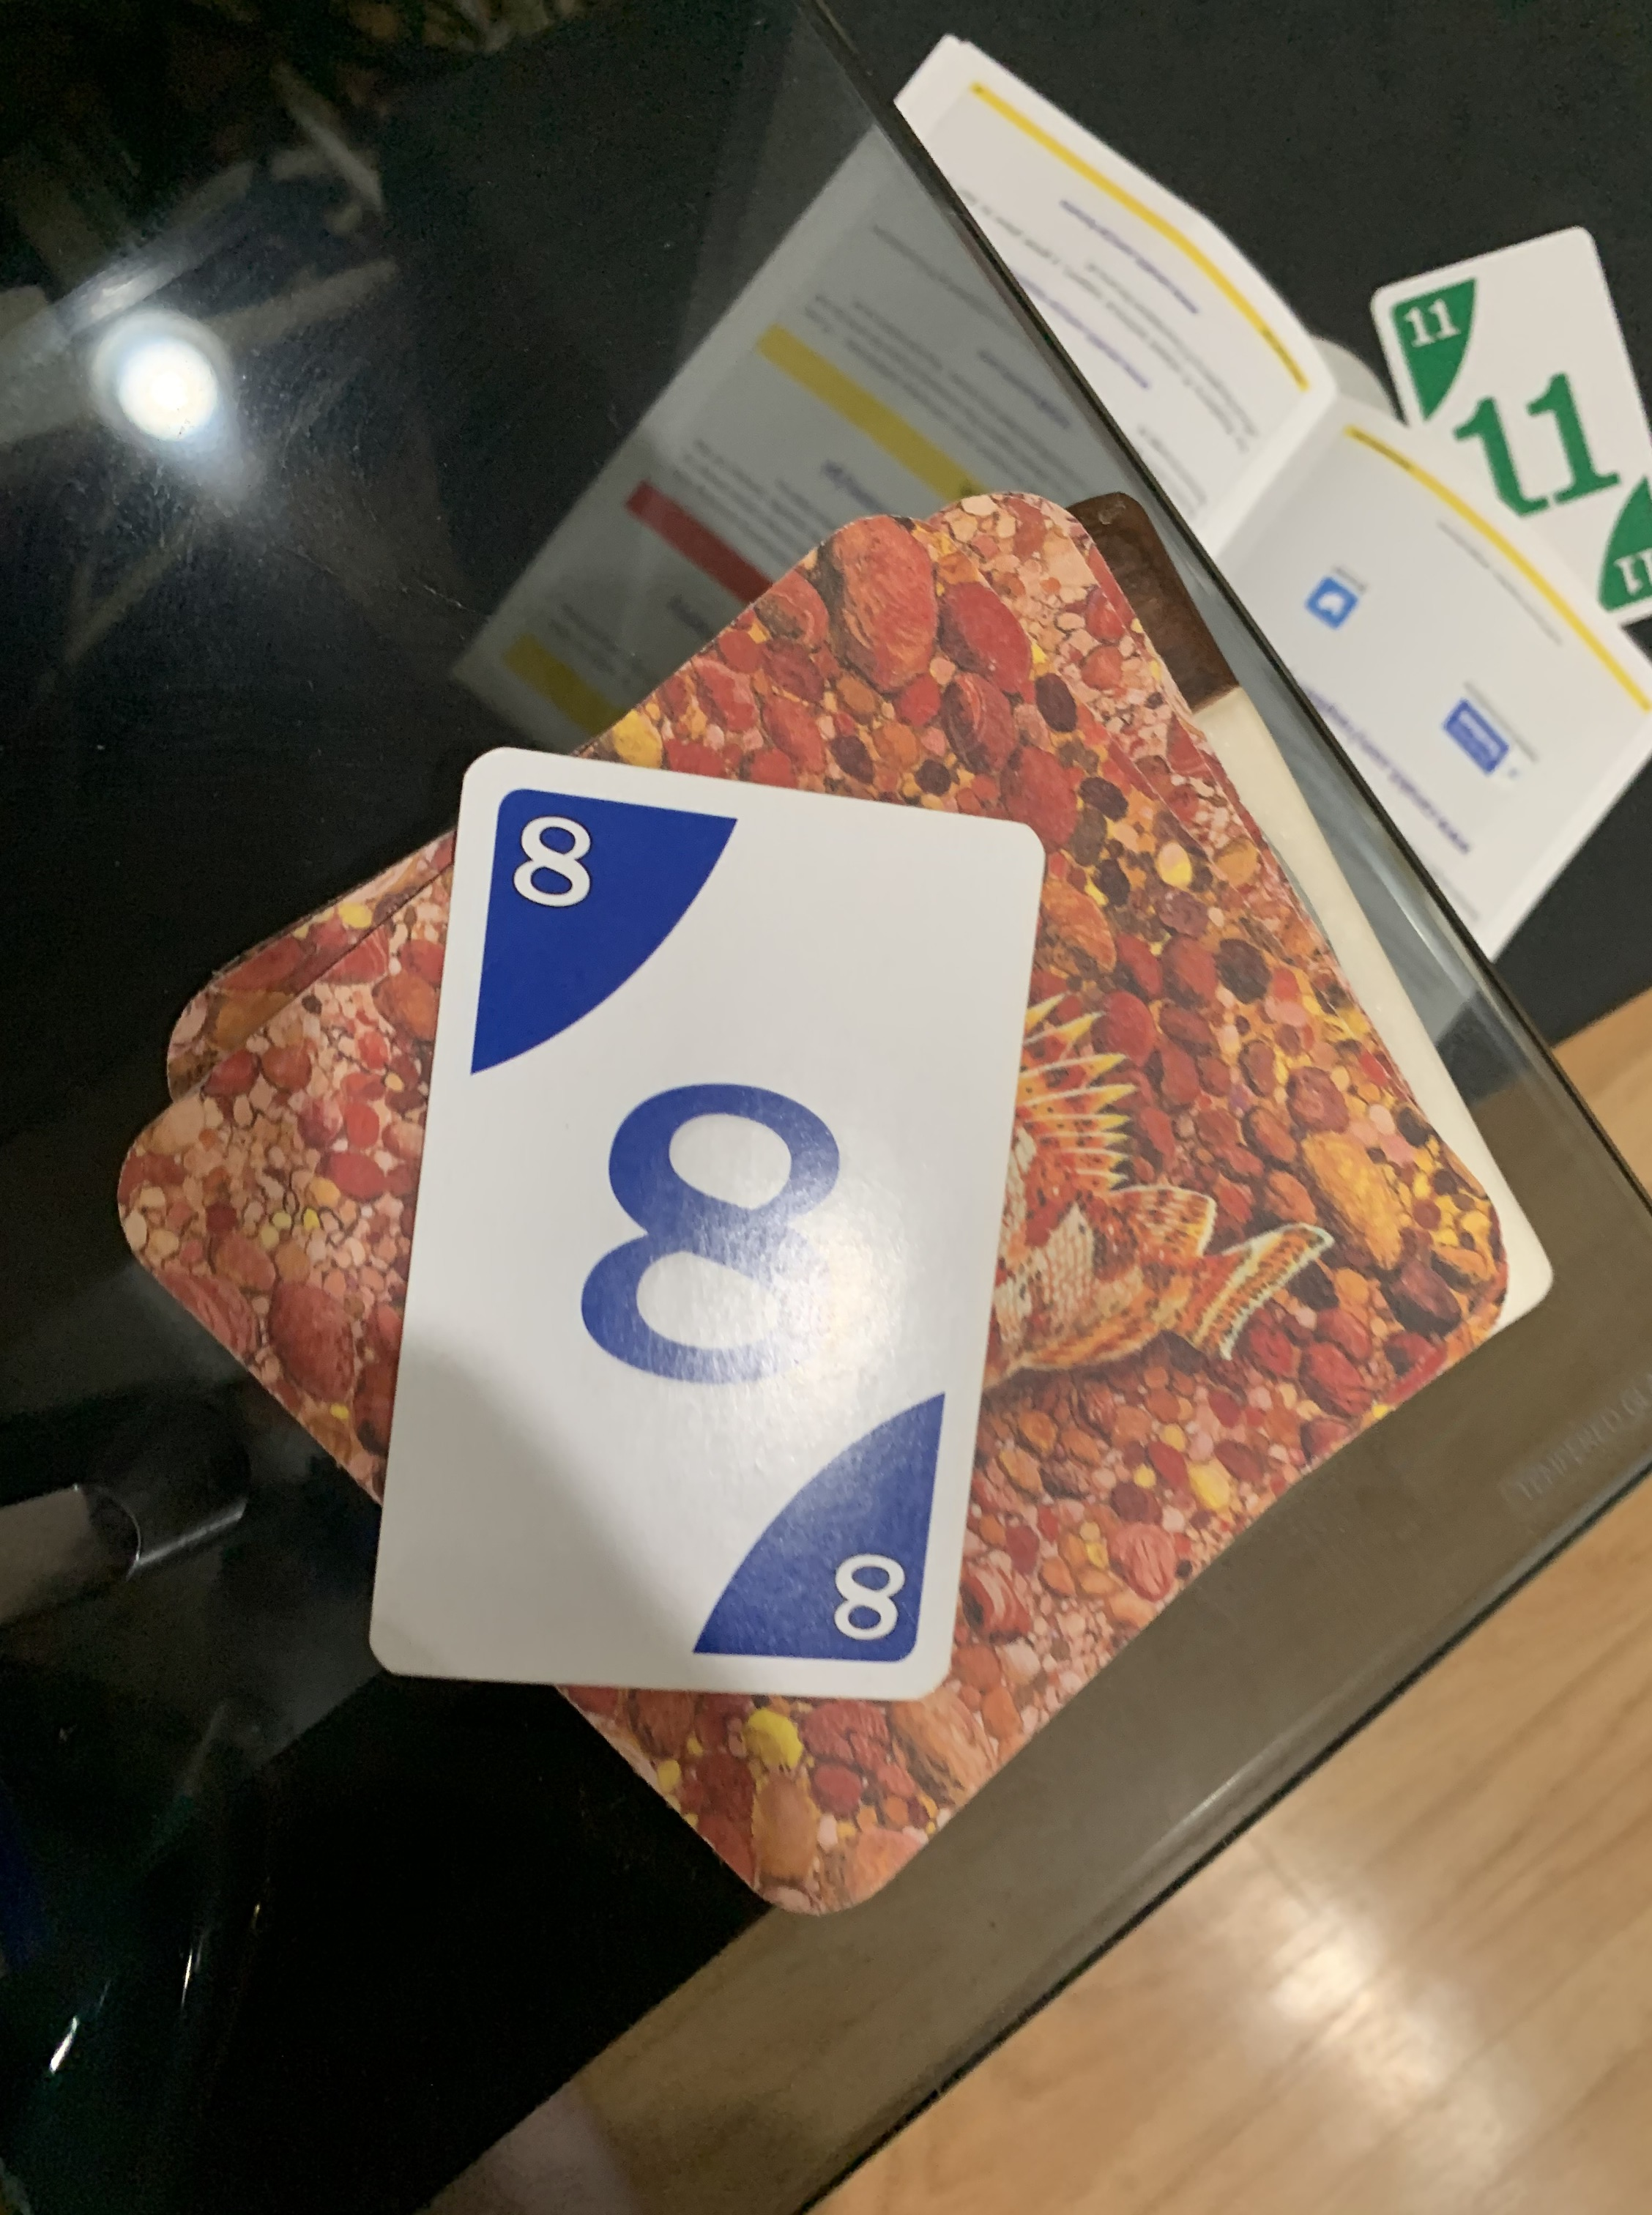eight: (349, 738, 1055, 1717)
